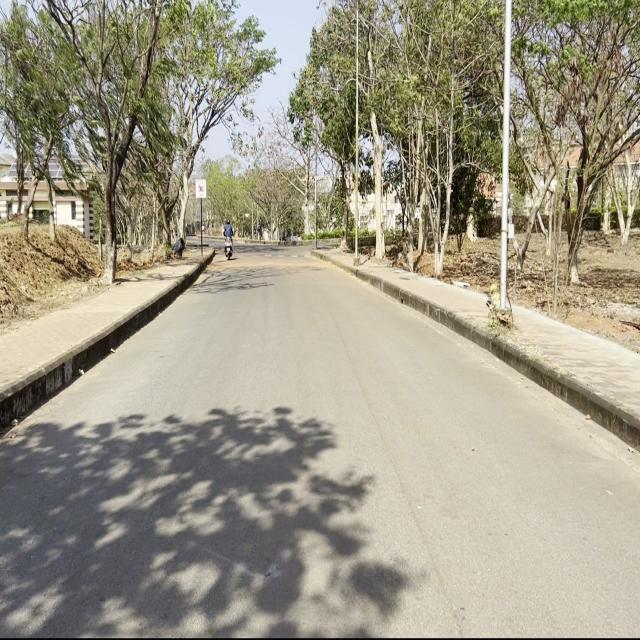Object: (220, 217, 235, 263)
Road: (3, 246, 636, 634)
